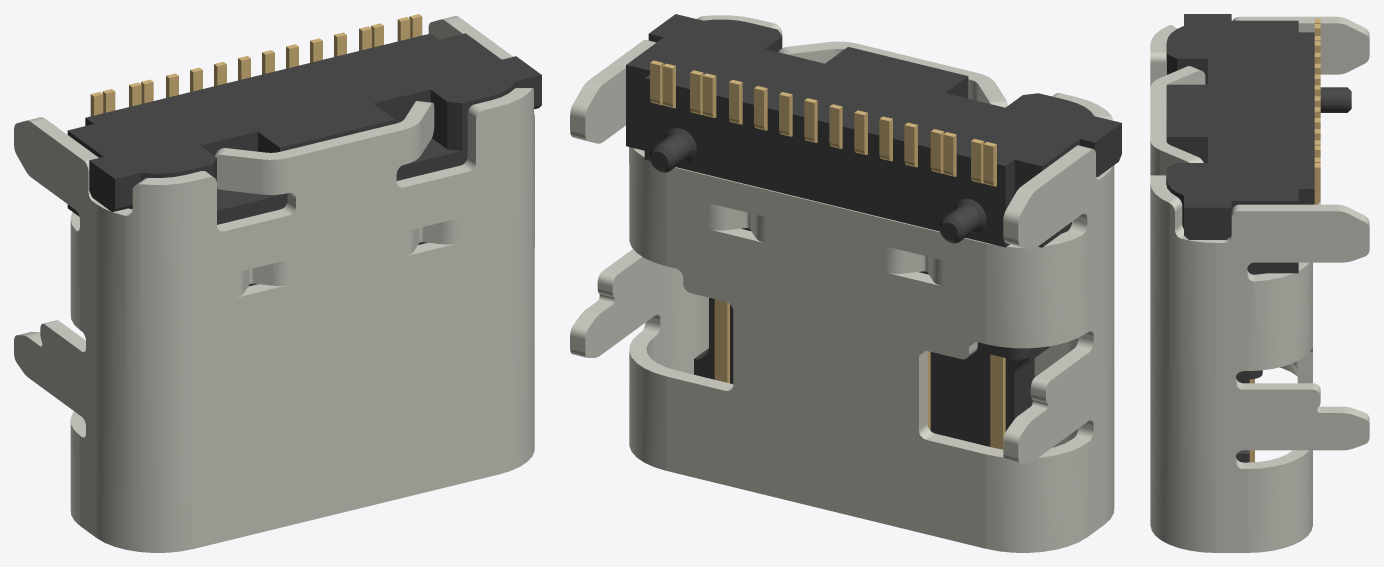
The model's file is Connector_USB_USB_C_Receptacle_GCT_USB4105-xx-A_16P_TopMnt_Horizontal.glb.
3 renders of one model, left to right at view 1: azimuth 30°, elevation 25°; view 2: azimuth 150°, elevation 25°; view 3: azimuth 270°, elevation 25°, orthographic. The views are drawn at different scales.
Bounding box in the file's own units: 8.94 × 7.78 × 4.26.
